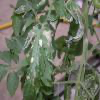Tomato leaf bacterial spot: (21, 24, 55, 99)
